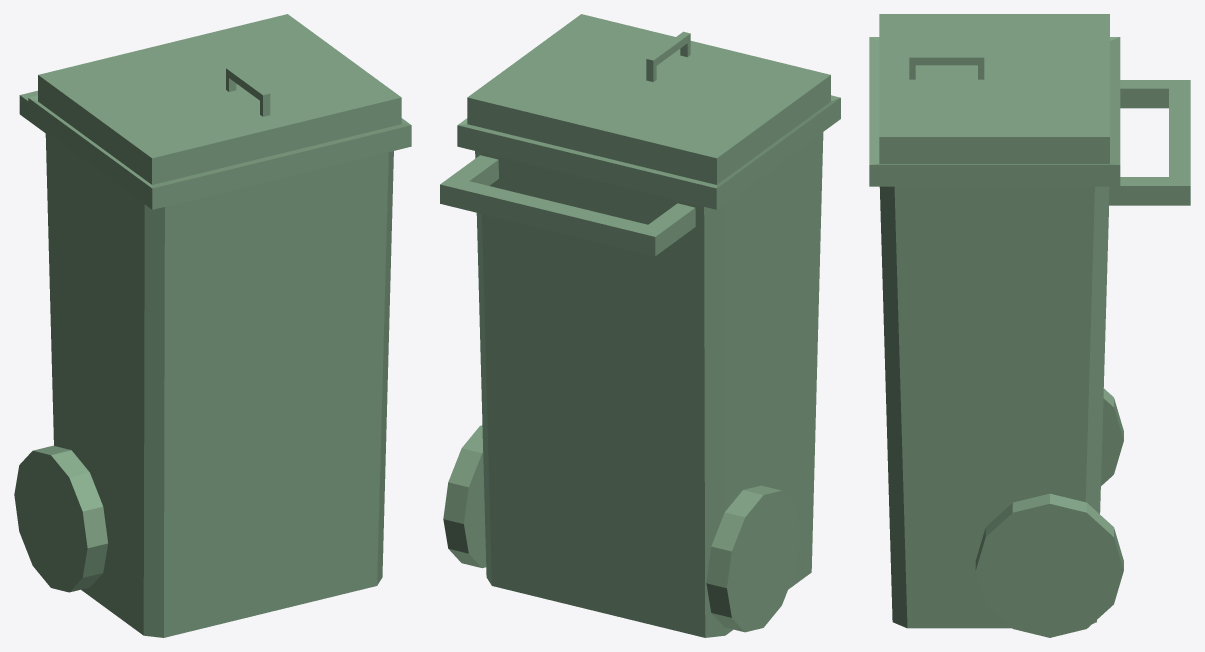
File: TachodeBasura_FBX.fbx
3 renders of one model, left to right at view 1: azimuth 30°, elevation 25°; view 2: azimuth 150°, elevation 25°; view 3: azimuth 270°, elevation 25°, orthographic.
Parts seen in each view (by area): view 1: polySurface28; view 2: polySurface28; view 3: polySurface28.
Boxes of the visible parts, x1=… form: polySurface28: x1=14, y1=14, x2=411, y2=637; polySurface28: x1=440, y1=14, x2=840, y2=637; polySurface28: x1=869, y1=14, x2=1190, y2=637.
Size of the model in its own units: 2.98 by 5.13 by 2.9.
